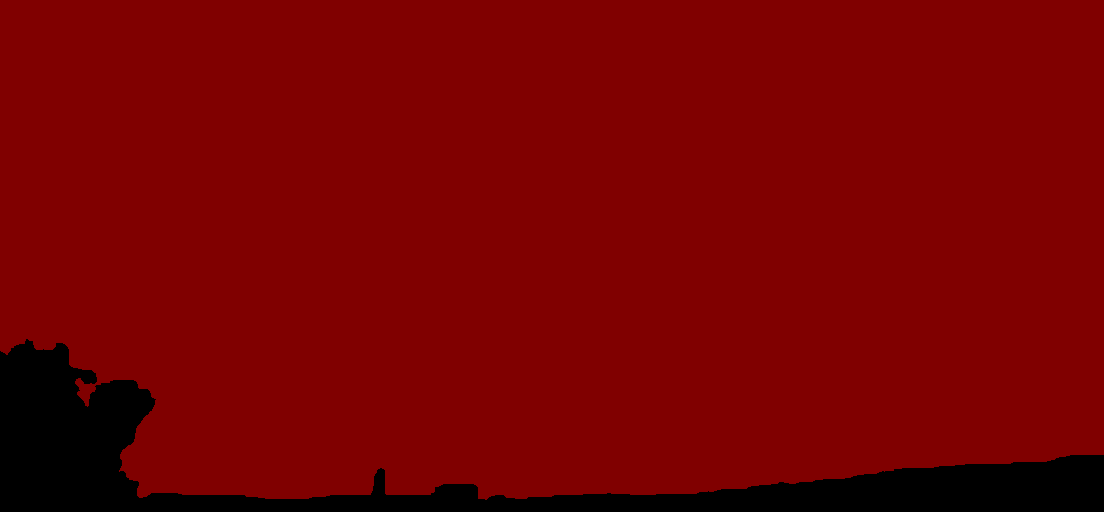Sky: (1, 1, 1103, 511)
